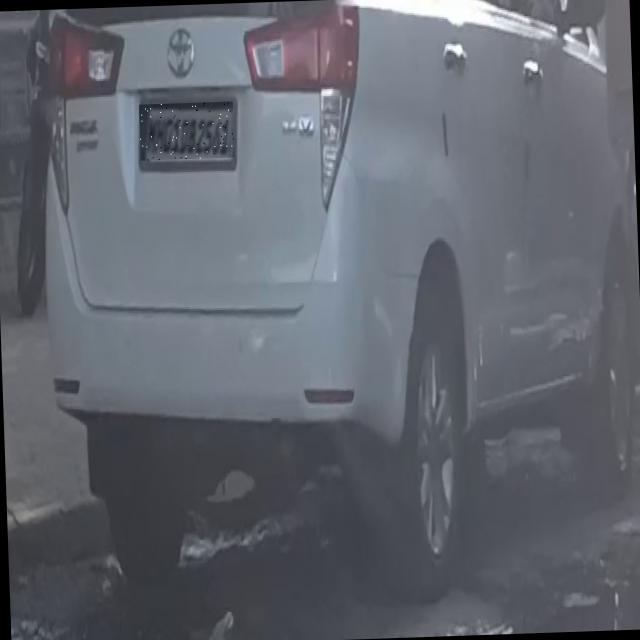Plate: (140, 102, 236, 161)
